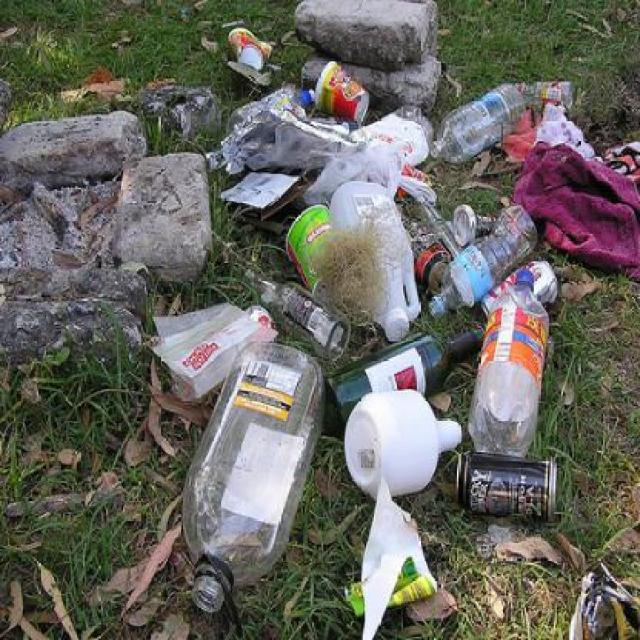garbage: (189, 49, 590, 586)
